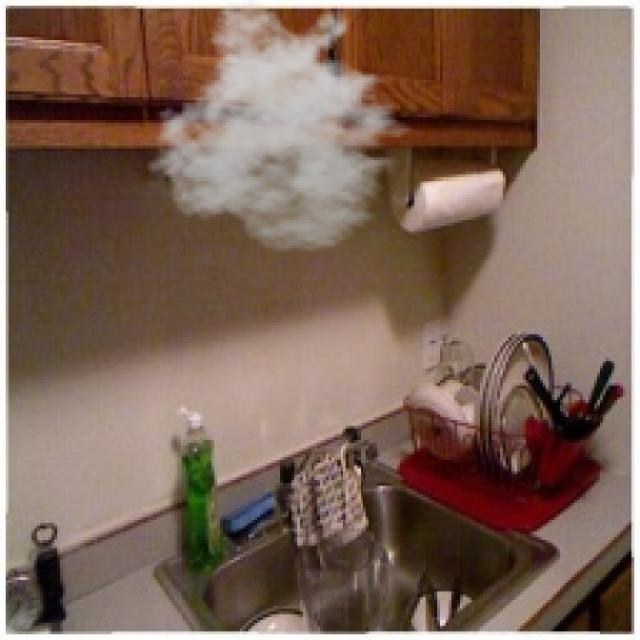Smoke: (145, 0, 429, 255)
